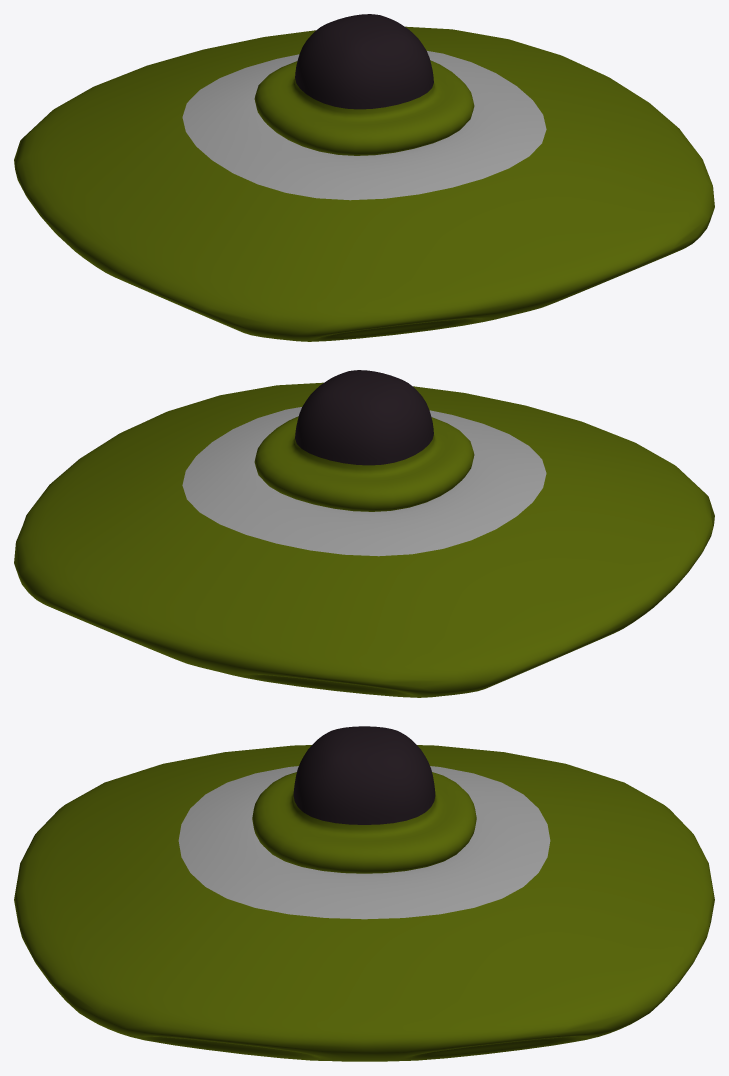
The model's file is SHIP.fbx.
The picture shows the model from 3 angles, top to bottom: view 1: azimuth 30°, elevation 25°; view 2: azimuth 150°, elevation 25°; view 3: azimuth 270°, elevation 25°; orthographic projection. The views are drawn at different scales.
Visible parts, largest first — view 1: Cube; view 2: Cube; view 3: Cube.
Boxes of the visible parts, x1,y1,x2,y2 form: Cube: [14, 14, 714, 341]; Cube: [14, 370, 714, 697]; Cube: [14, 726, 714, 1061].
Bounding box in the file's own units: 904 × 314 × 904.
